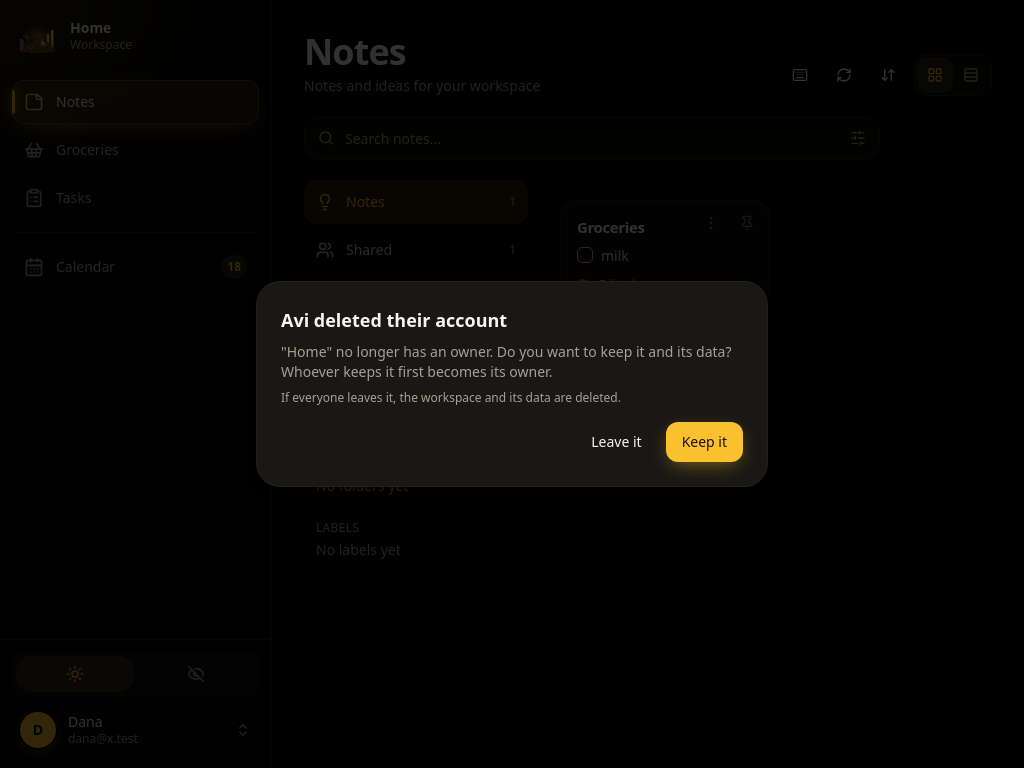
when the owner deleted their account, a member is asked and can keep the workspace
Click the button "Keep it".
click(704, 442)  # box [666,422,743,462]
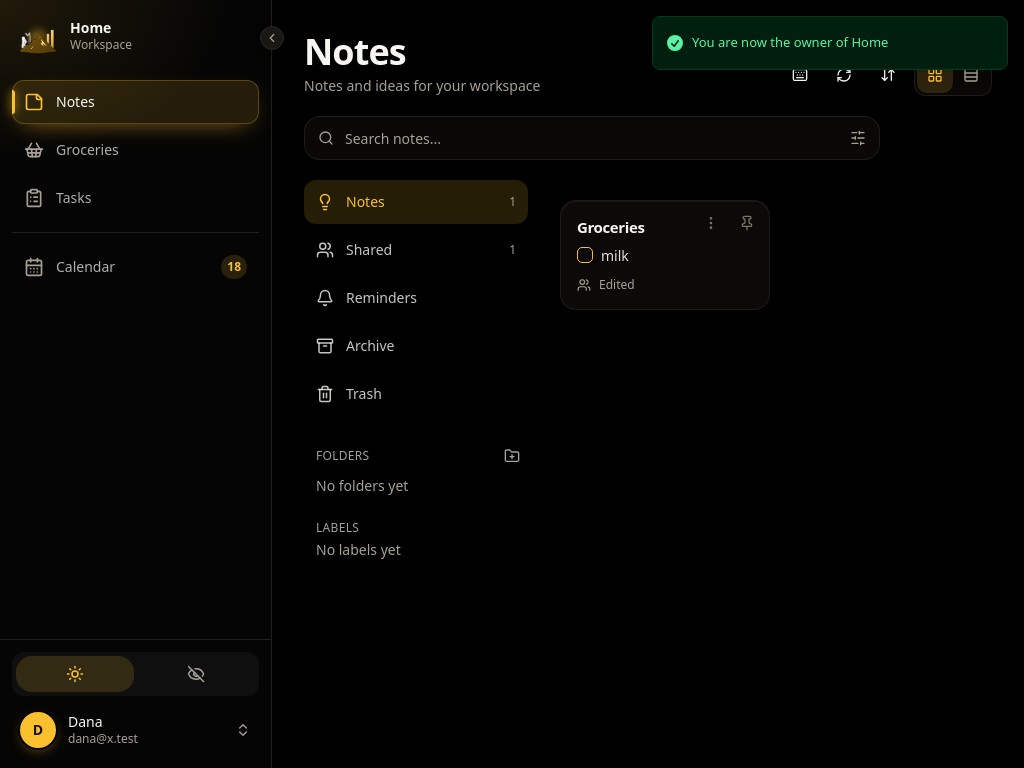
Now the dialog is gone
